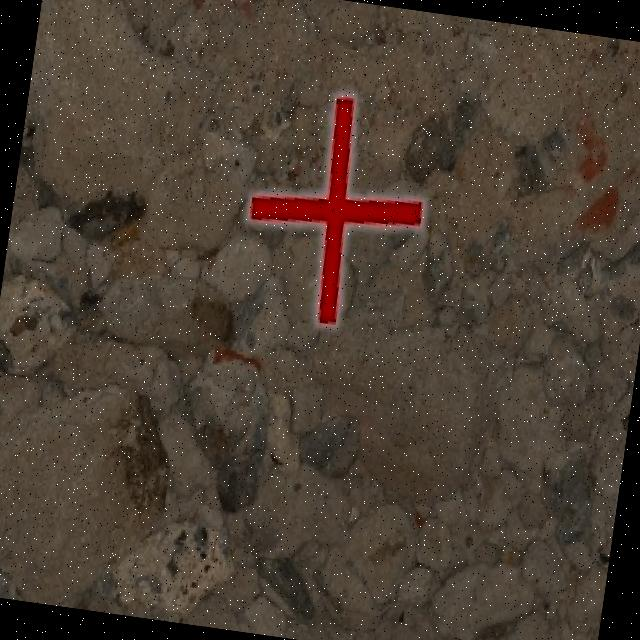x_marker: (235, 85, 436, 333)
